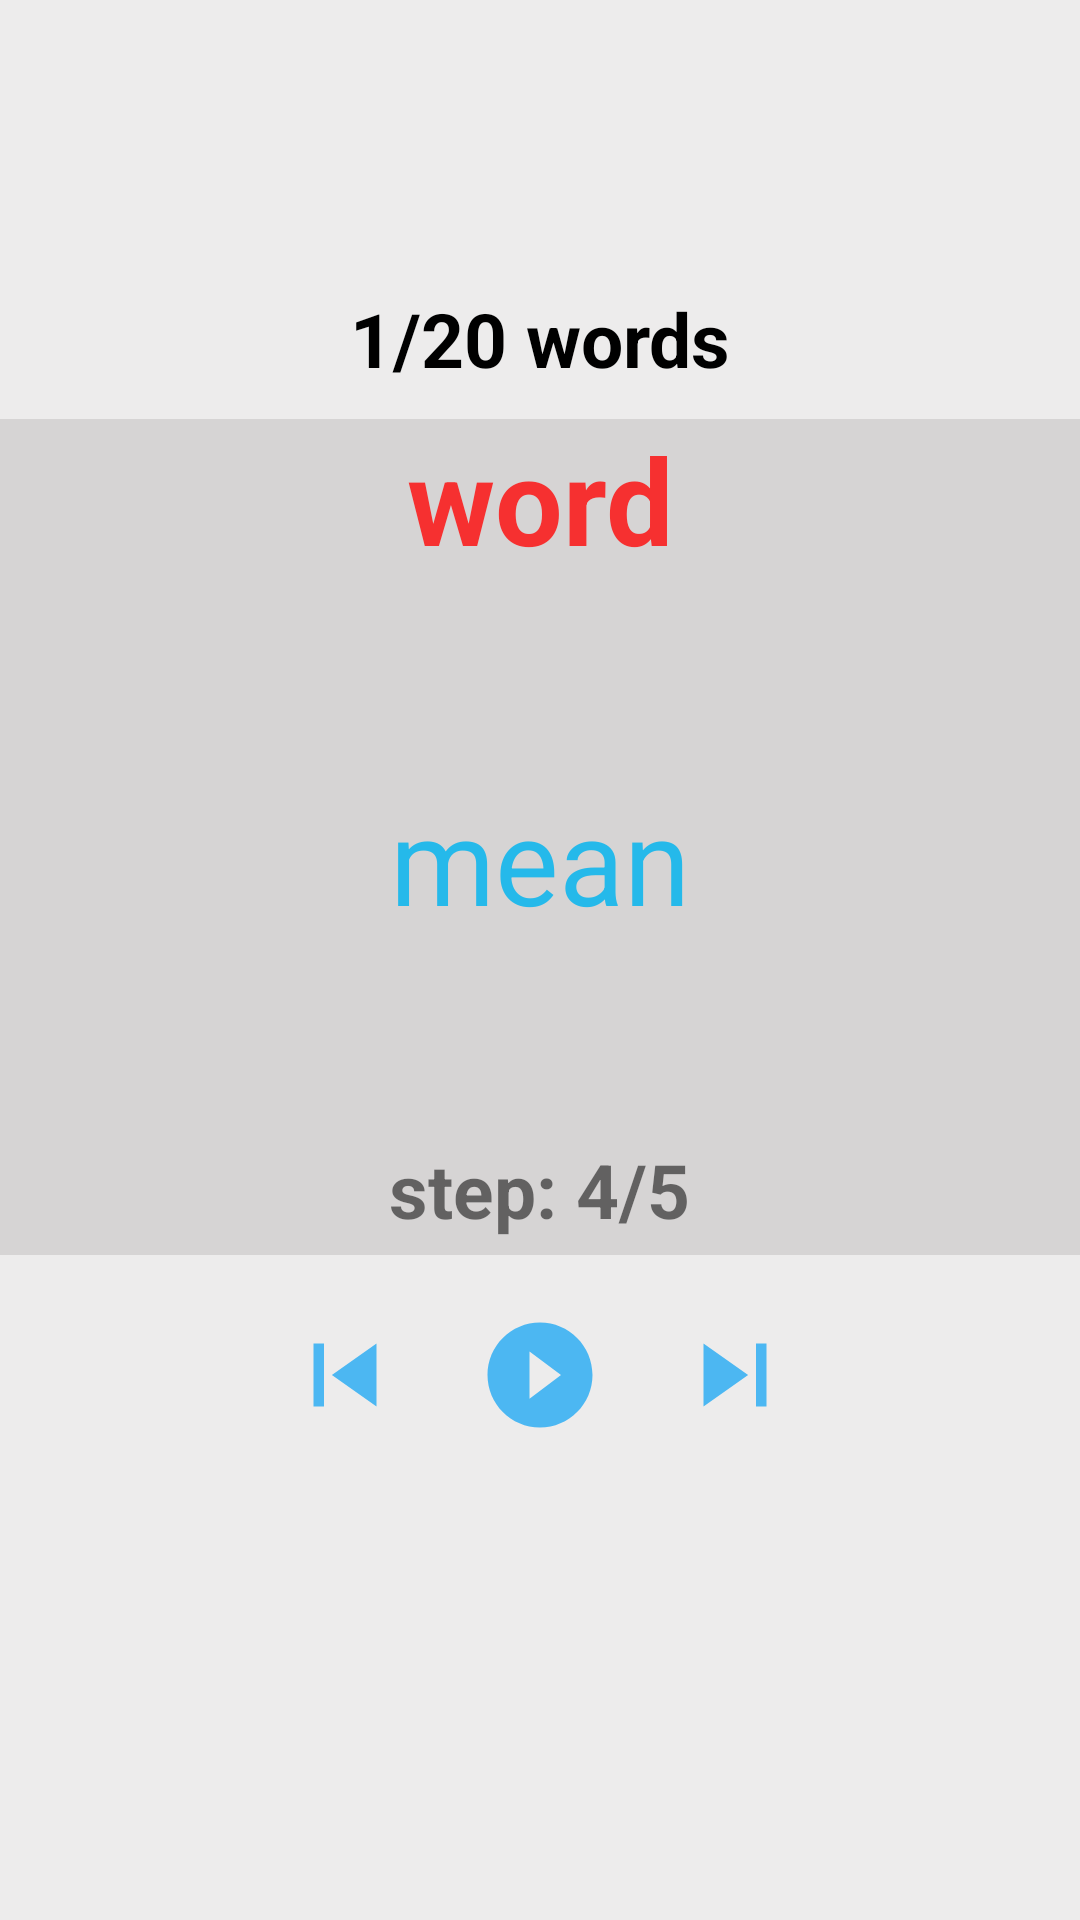

Point at icon controls on the screen. Image size 1080 x 1920, points as (x=x, y=y).
play circle: (x=540, y=1375)
skip next: (x=735, y=1375)
skip previous: (x=345, y=1375)
